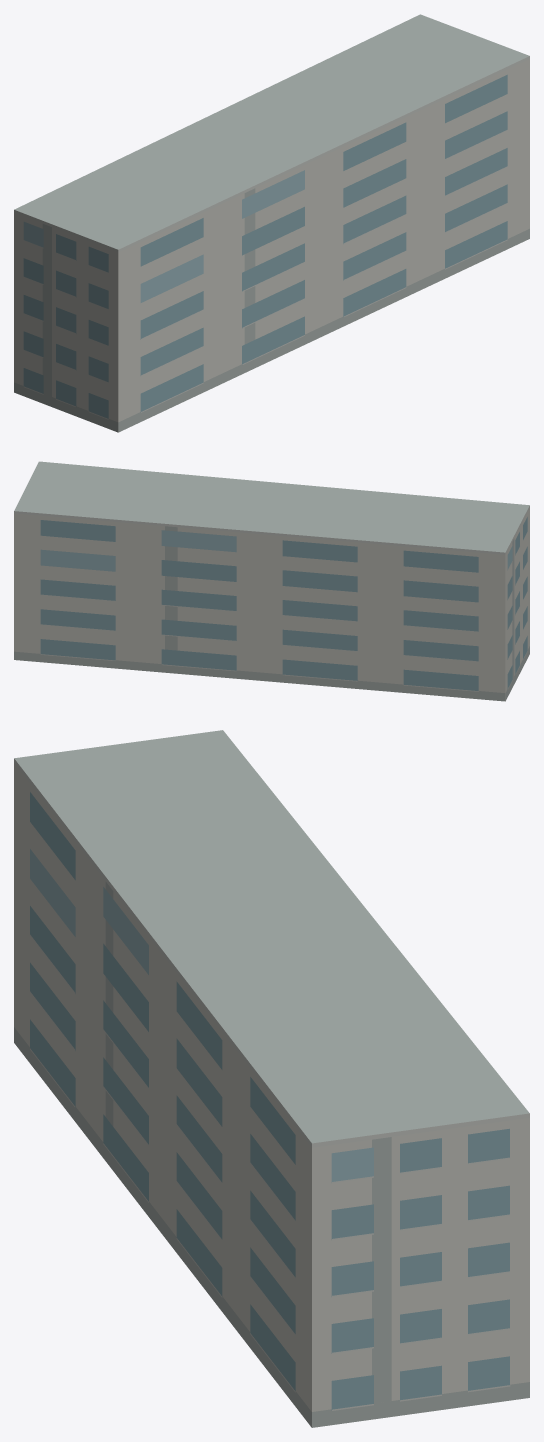
File: residential-055345c8-e923-46c2-9b7c-efceaaec81a0.glb
3 views of the same model, one above another, from view 1: azimuth 30°, elevation 25°; view 2: azimuth 150°, elevation 25°; view 3: azimuth 270°, elevation 25° (orthographic). The views are drawn at different scales.
Visible parts, largest first — view 1: residential-055345c8-e923-46c2-9b7c-efceaaec81a0.tmp; view 2: residential-055345c8-e923-46c2-9b7c-efceaaec81a0.tmp; view 3: residential-055345c8-e923-46c2-9b7c-efceaaec81a0.tmp.
Boxes of the visible parts, x1,y1,x2,y2 form: residential-055345c8-e923-46c2-9b7c-efceaaec81a0.tmp: [14, 14, 529, 432]; residential-055345c8-e923-46c2-9b7c-efceaaec81a0.tmp: [14, 461, 529, 701]; residential-055345c8-e923-46c2-9b7c-efceaaec81a0.tmp: [14, 730, 529, 1427].
Bounding box in the file's own units: 47.53 × 15.25 × 25.07.
